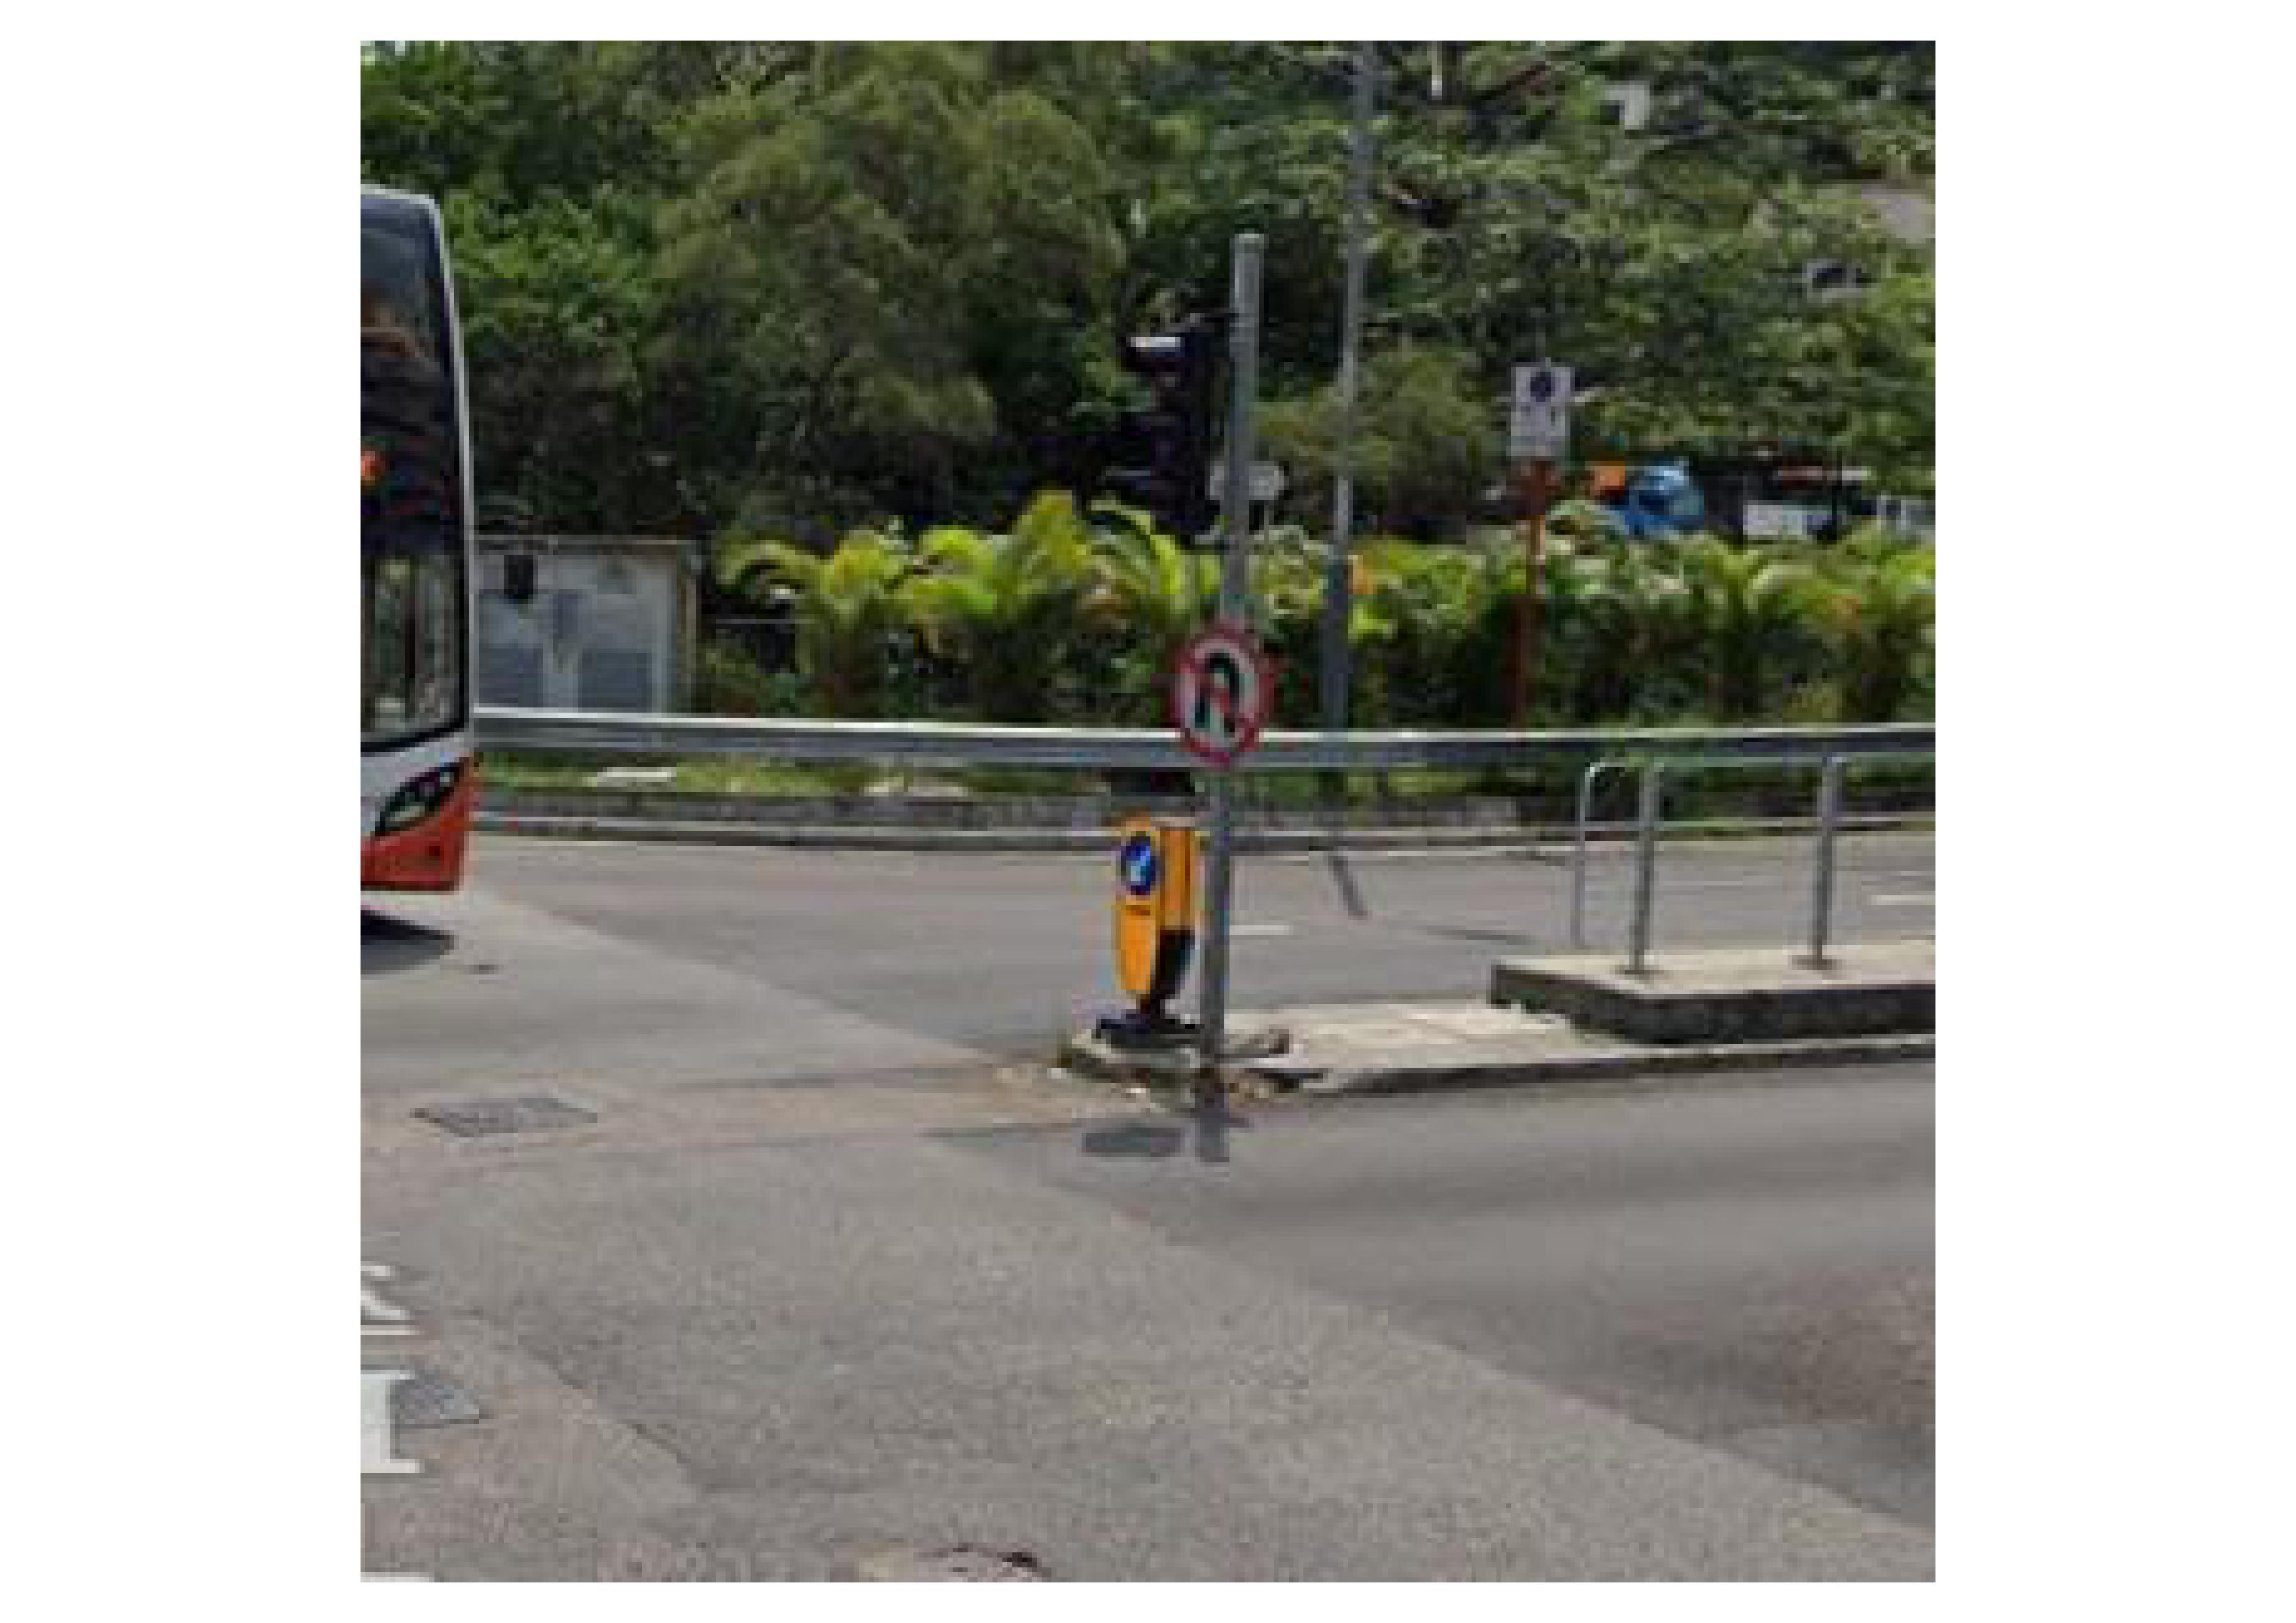No Uturn: (1167, 624, 1273, 766)
